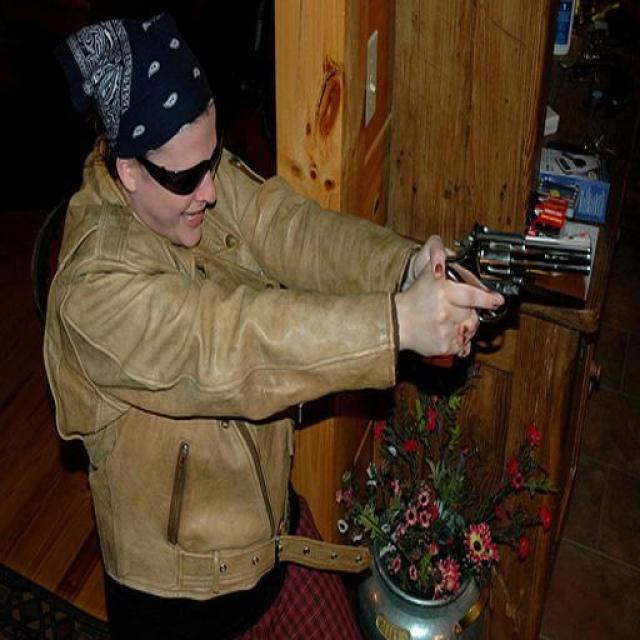pistol: (423, 231, 589, 370)
